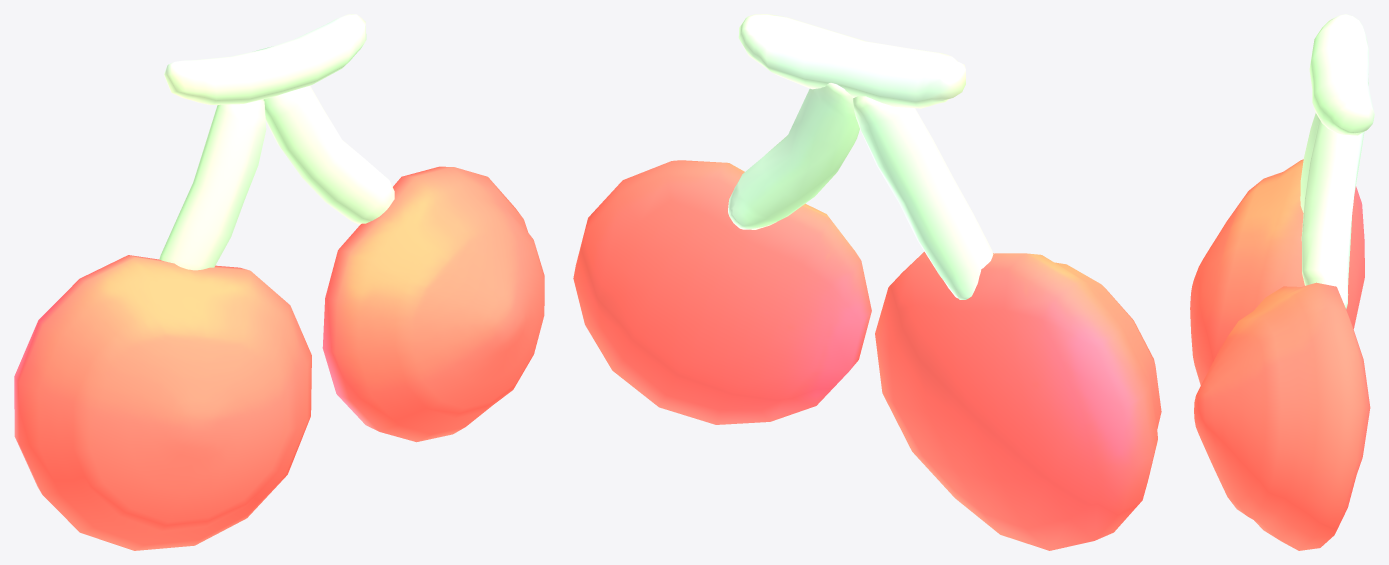
The model's file is wisnia_bok.glb.
The picture shows the model from 3 angles, left to right: view 1: azimuth 30°, elevation 25°; view 2: azimuth 150°, elevation 25°; view 3: azimuth 270°, elevation 25°; orthographic projection. The views are drawn at different scales.
Parts seen in each view (by area): view 1: Cherry3; view 2: Cherry3; view 3: Cherry3.
Boxes of the visible parts, box(x1,y1,x2,y2) form: Cherry3: box(14, 14, 544, 550); Cherry3: box(573, 14, 1161, 550); Cherry3: box(1190, 14, 1374, 550).
Bounding box in the file's own units: 0.0182 × 0.015 × 0.00559.
1 material, 1 textured.
